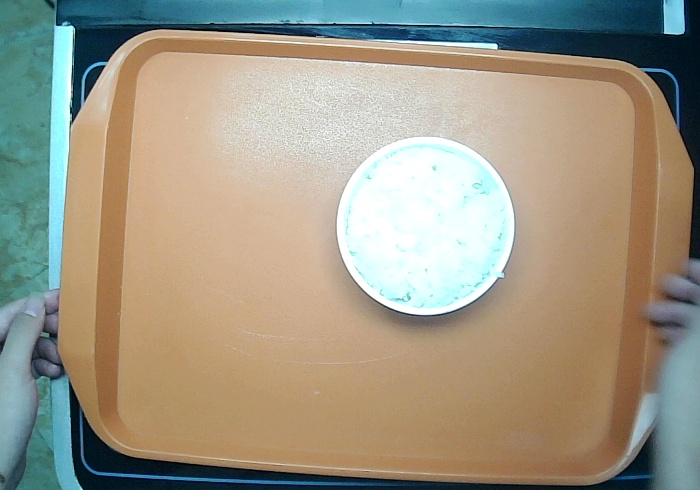HZYJPL-Fan_Wan: (335, 135, 517, 319)
